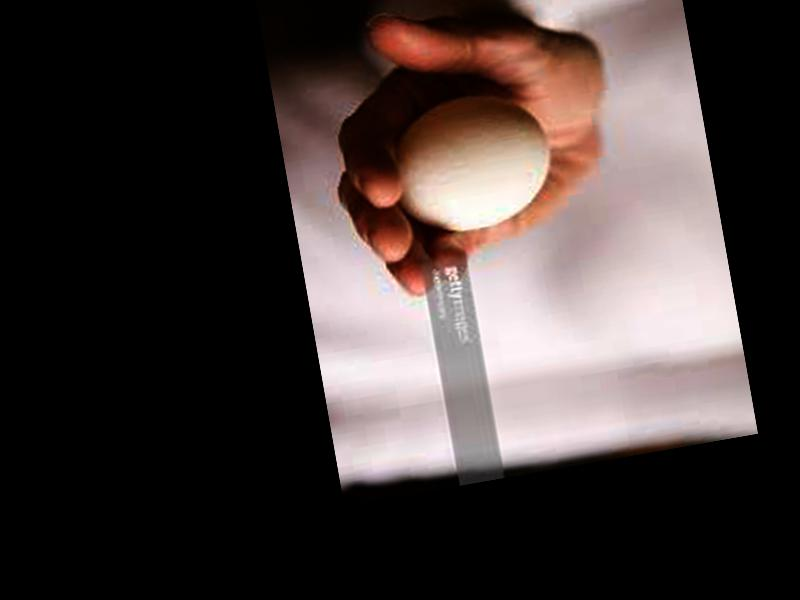Eggs: (384, 82, 558, 241)
